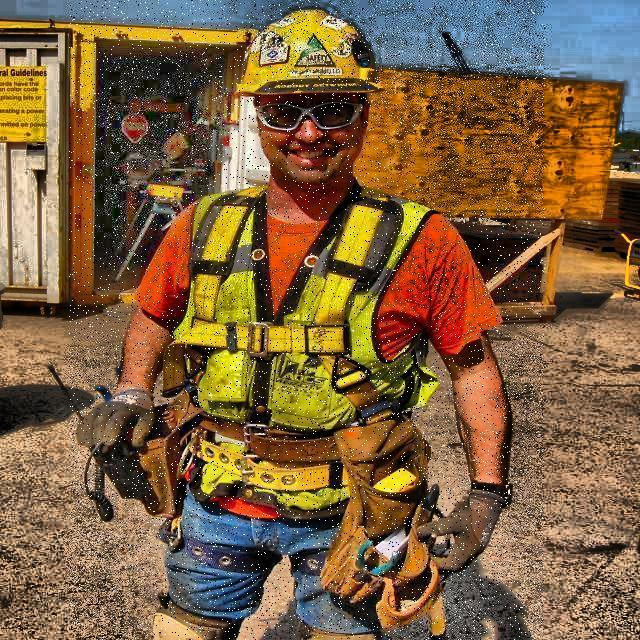safety_helmet: (225, 5, 394, 107)
safety_jacket: (165, 166, 456, 524)
